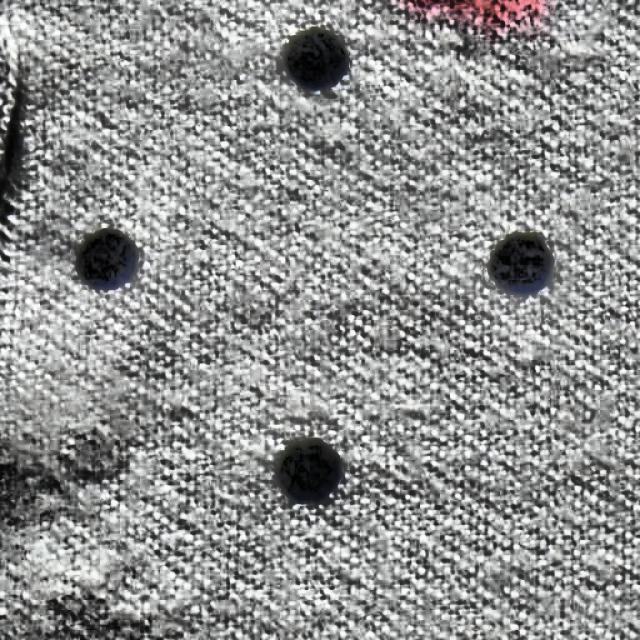Stitch: (0, 15, 51, 276)
